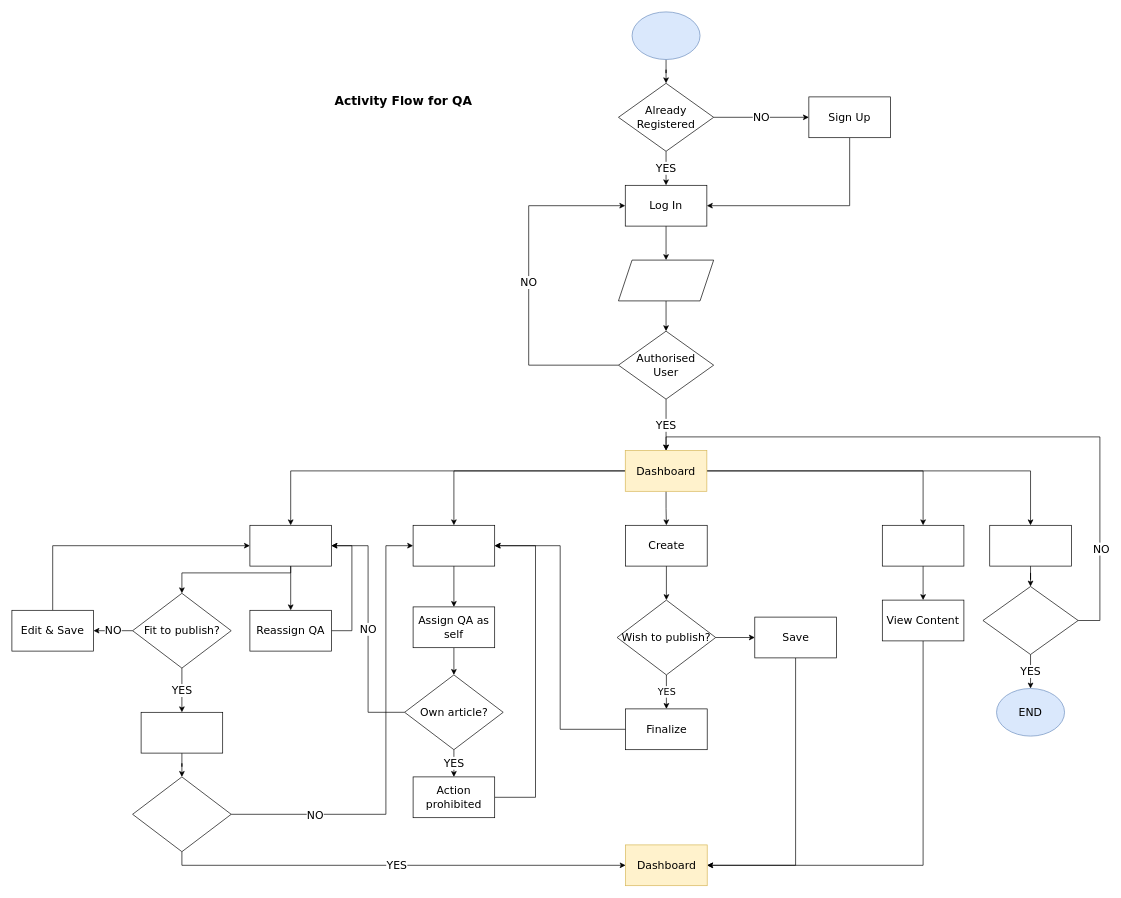
This 1121x898 diagram has some shape labels left out. Here are the shapes that lost their labels. From the top down, the centre of each, then its label:
At [665,35]: "START".
At [666,280]: "Input User Credentials".
At [290,545]: "Assigned Requests".
At [453,545]: "Pool".
At [923,545]: "My Assigned articles".
At [1030,545]: "Sign out".
At [1030,620]: "Are you sure?".
At [181,732]: "Approve & Proceed".
At [181,814]: "Request CR".
